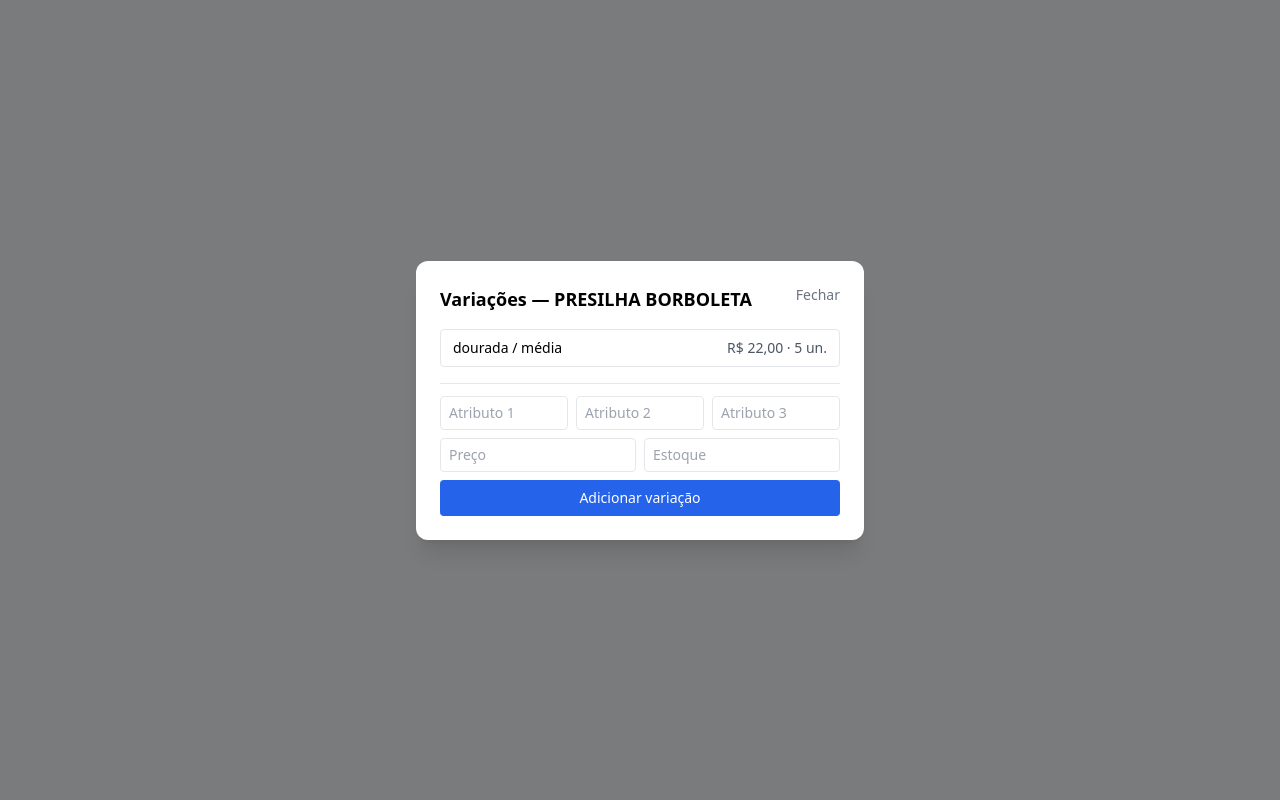
Scenario: GerenciarVariacoesModal — criação › atributo 1 vazio não cria e avisa obrigatório
Check: the text "dourada / média" is shown, box [453,338,562,358]
Type "10" into the field with placeholder "Preço" at coordinates (538, 454), box [440,438,636,472]
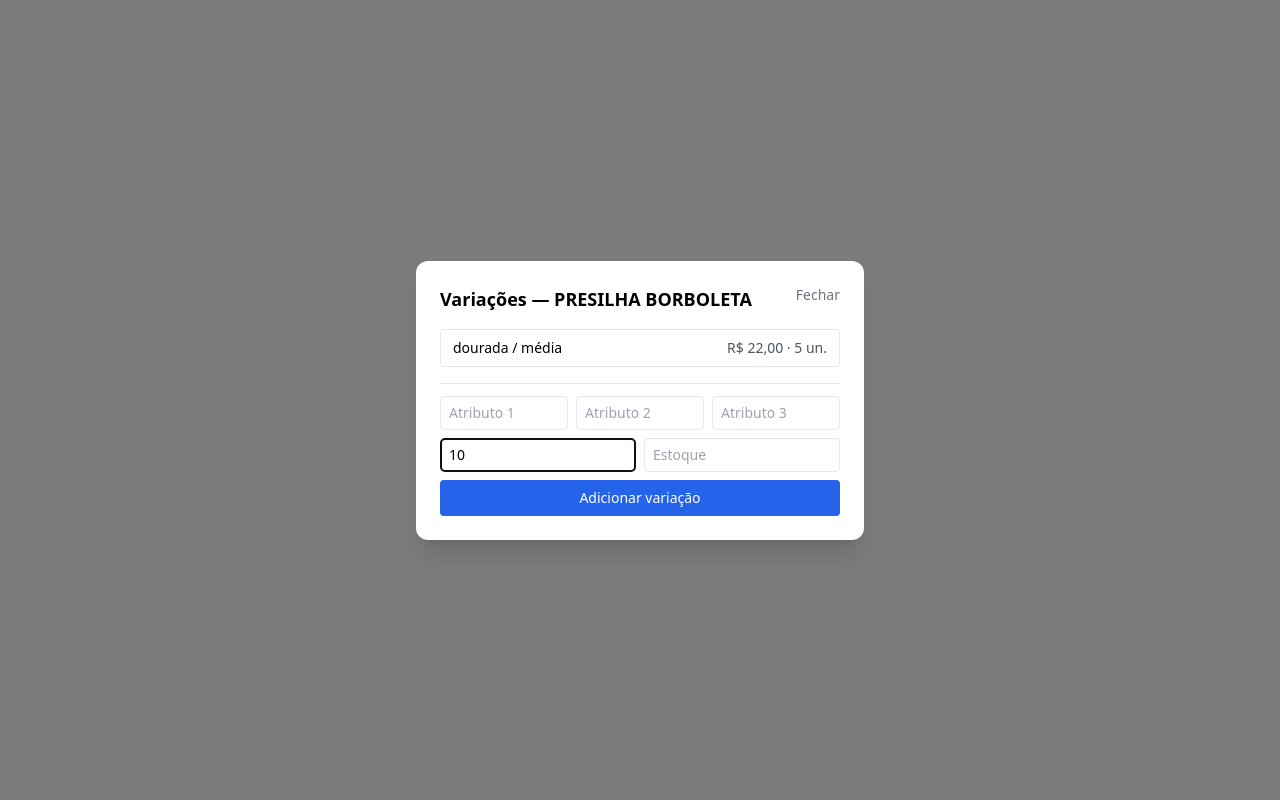
Type "1" into the field with placeholder "Estoque" at coordinates (742, 454), box [644,438,840,472]
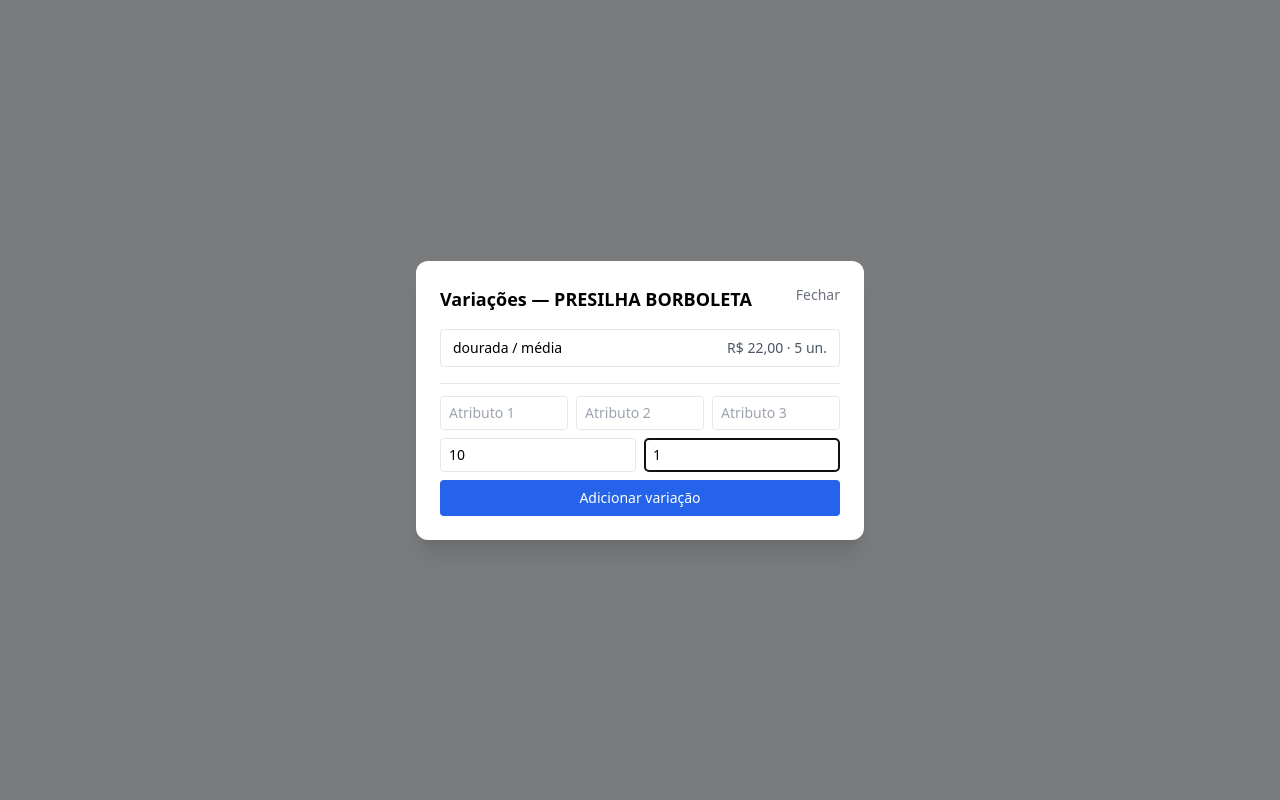
Click the button "Adicionar variação" at coordinates (640, 498), box [440,480,840,516]
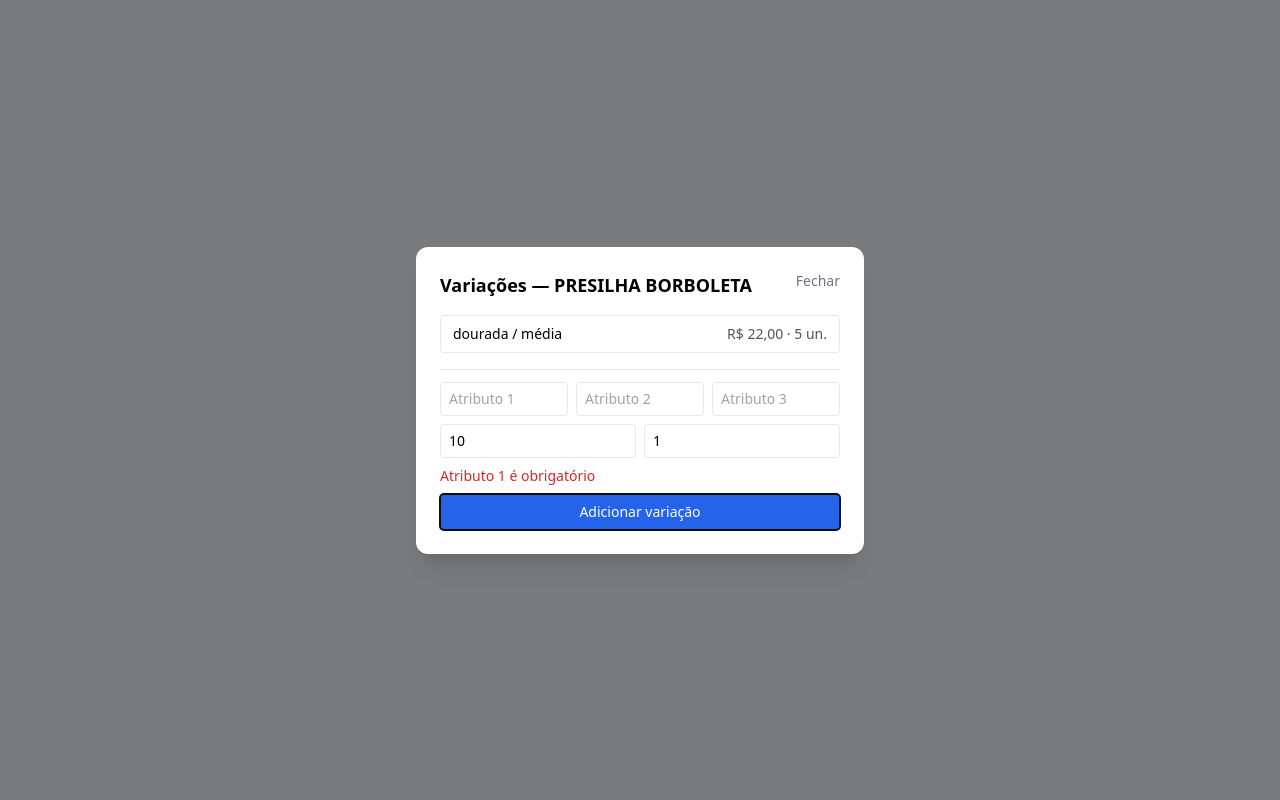
Check: the text "Atributo 1 é obrigatório" is shown, box [440,466,595,484]
